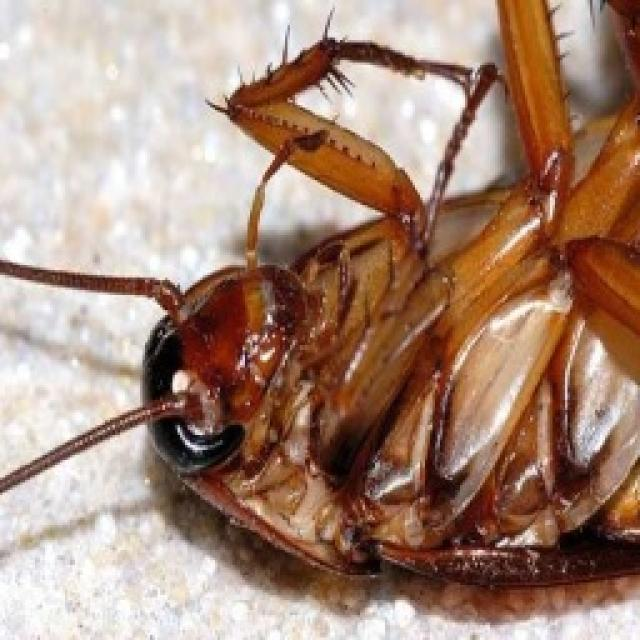cockroach: (3, 5, 637, 590)
